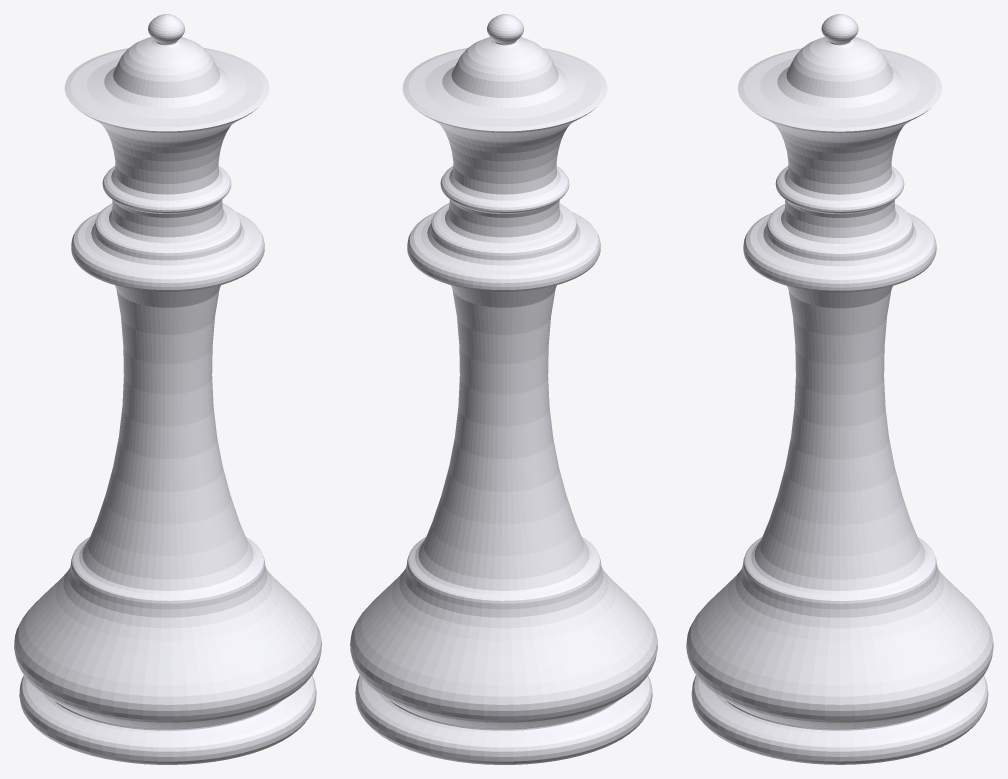
Rendered from queen.glb.
3 renders of one model, left to right at view 1: azimuth 30°, elevation 25°; view 2: azimuth 150°, elevation 25°; view 3: azimuth 270°, elevation 25°, orthographic.
Parts seen in each view (by area): view 1: queen; view 2: queen; view 3: queen.
Part boxes in pixels (box(x1,y1,x2,y2)): queen: box(14, 14, 321, 764); queen: box(350, 14, 657, 764); queen: box(686, 14, 993, 764).
Size of the model in its own units: 1.33 by 3.31 by 1.33.
1 material, 1 textured.
